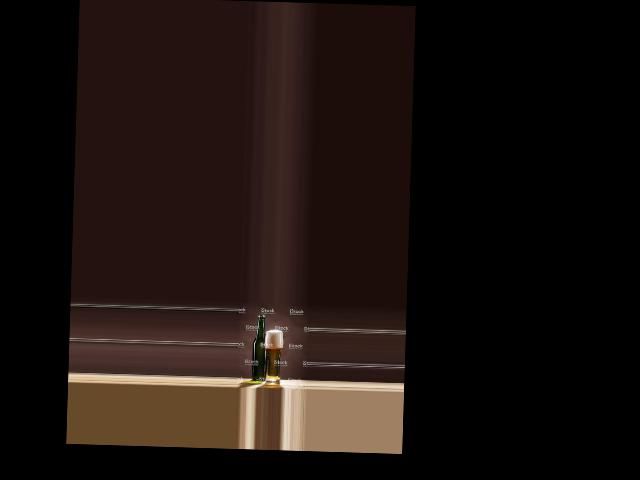beer: (251, 314, 268, 381)
